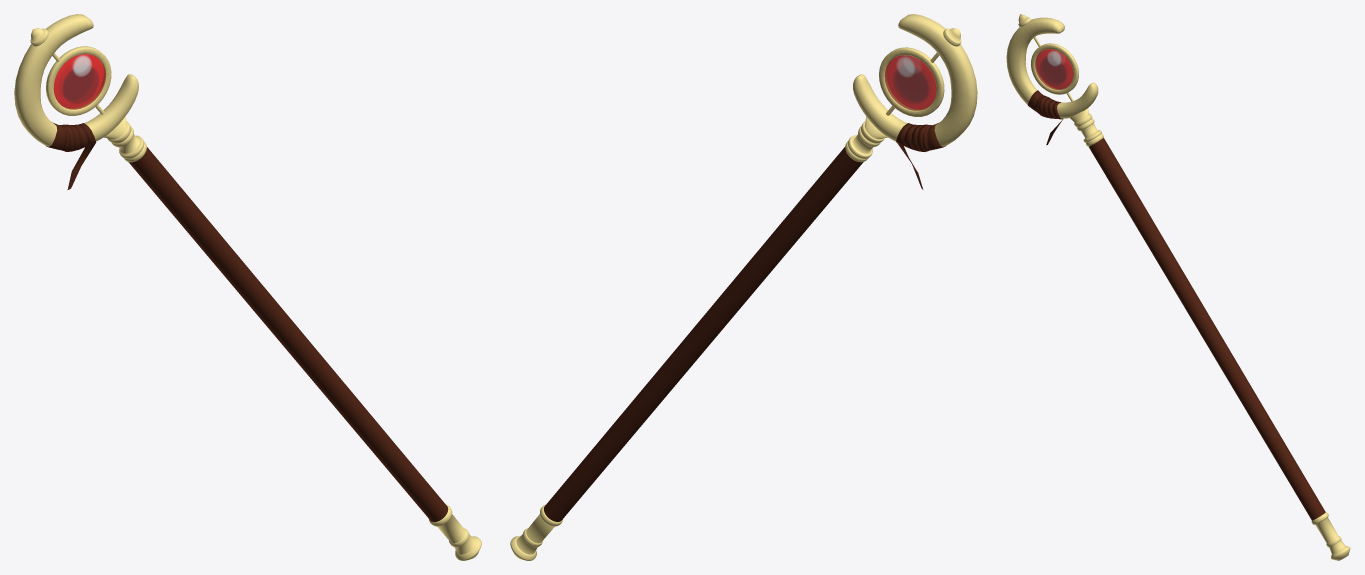
File: staff.glb
3 views of the same model, side by side, from view 1: azimuth 30°, elevation 25°; view 2: azimuth 150°, elevation 25°; view 3: azimuth 330°, elevation 25° (orthographic). The views are drawn at different scales.
Parts seen in each view (by area): view 1: Object_3, Object_4, Object_2; view 2: Object_3, Object_4, Object_2; view 3: Object_3, Object_4, Object_2.
Boxes of the visible parts, x1=… form: Object_3: x1=46, y1=122, x2=448, y2=521; Object_4: x1=14, y1=14, x2=481, y2=560; Object_2: x1=53, y1=54, x2=105, y2=109; Object_3: x1=544, y1=122, x2=945, y2=521; Object_4: x1=510, y1=14, x2=977, y2=560; Object_2: x1=884, y1=55, x2=936, y2=110; Object_3: x1=1027, y1=90, x2=1325, y2=520; Object_4: x1=1006, y1=14, x2=1350, y2=560; Object_2: x1=1035, y1=49, x2=1073, y2=89.
Bounding box in the file's own units: 4.05 × 5.34 × 0.228.
3 materials, 3 textured.
